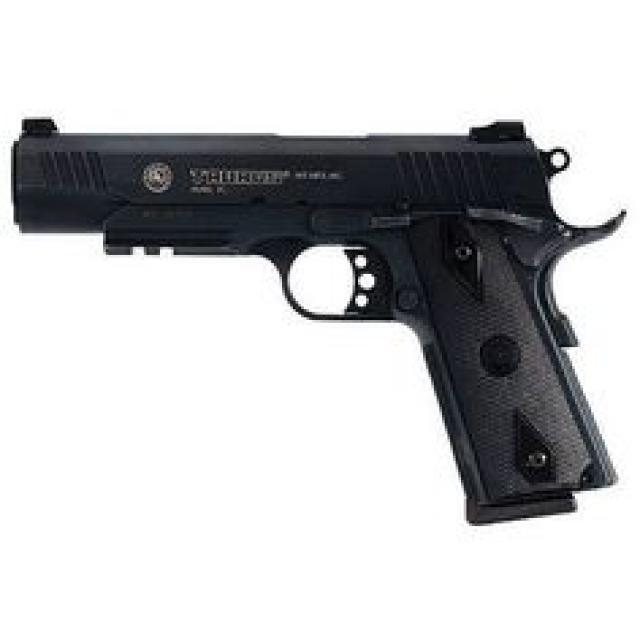semi automatic: (4, 96, 632, 538)
